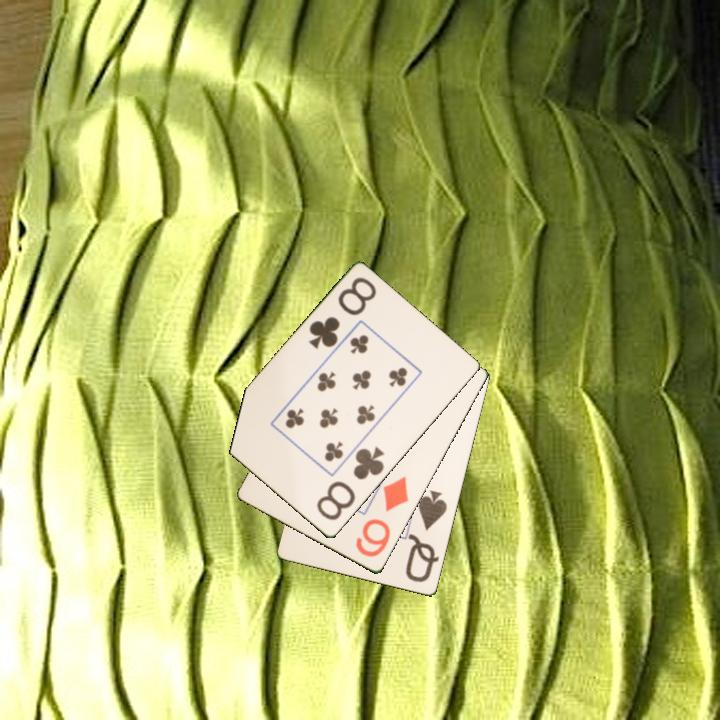6d: (352, 473, 412, 561)
8c: (313, 443, 388, 524), (305, 274, 379, 353)
Qs: (402, 487, 450, 586)
